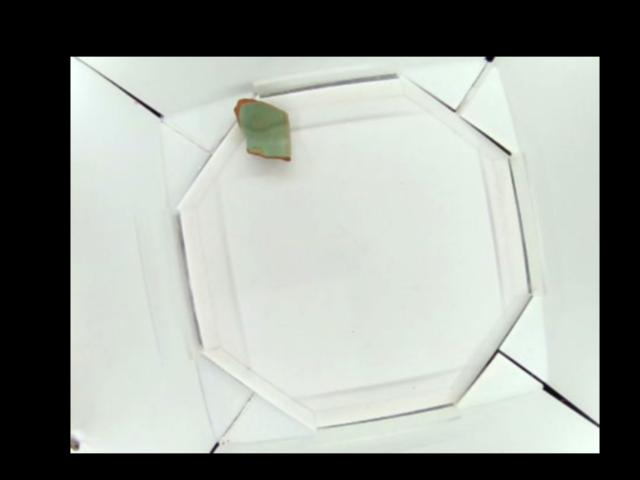China: (230, 97, 295, 164)
